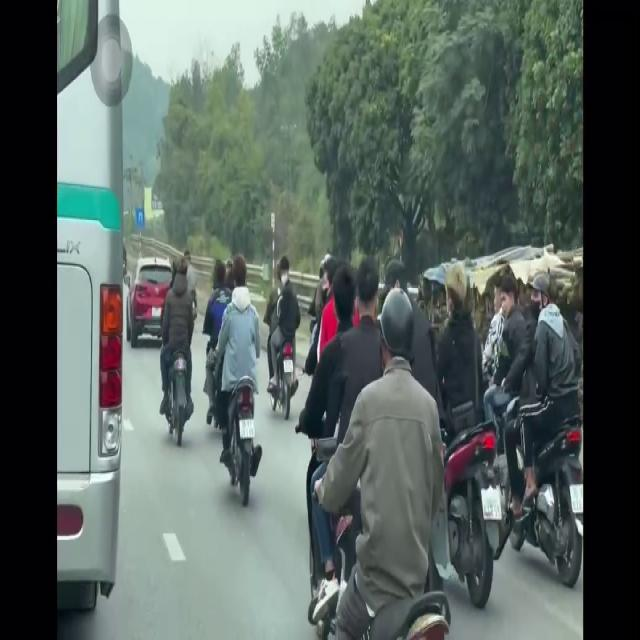helmet: (380, 286, 412, 372), (528, 265, 550, 333)
no_helmet: (443, 260, 472, 330), (235, 256, 247, 297)
